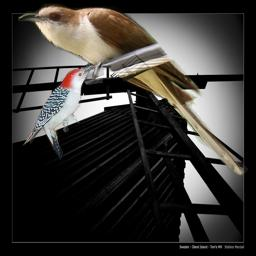Cuckoo: (18, 3, 248, 179)
Woodpecker: (22, 64, 97, 161)
